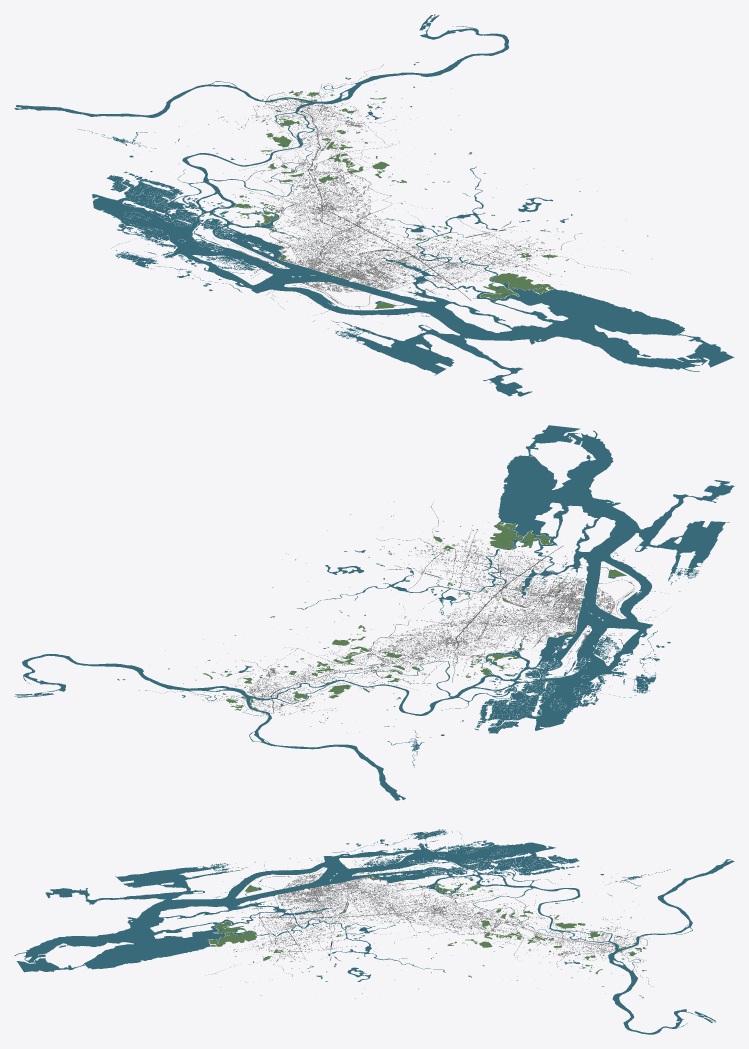
The model's file is kochi-city.glb.
3 views of the same model, one above another, from view 1: azimuth 30°, elevation 25°; view 2: azimuth 150°, elevation 25°; view 3: azimuth 270°, elevation 25° (orthographic). The views are drawn at different scales.
Visible parts, largest first — view 1: Water, Buildings, Roads, Greens; view 2: Water, Buildings, Roads, Greens; view 3: Water, Buildings, Roads, Greens.
Boxes of the visible parts, bbox=[...] form: Water: bbox=[14, 14, 734, 396]; Buildings: bbox=[254, 93, 552, 292]; Roads: bbox=[214, 64, 630, 306]; Greens: bbox=[218, 90, 559, 308]; Water: bbox=[14, 425, 734, 800]; Buildings: bbox=[231, 536, 614, 716]; Roads: bbox=[139, 502, 634, 716]; Greens: bbox=[203, 522, 631, 723]; Water: bbox=[14, 829, 734, 1034]; Buildings: bbox=[249, 872, 643, 961]; Roads: bbox=[211, 861, 649, 984]; Greens: bbox=[207, 876, 646, 974].
Size of the model in its own units: 26991 by 129 by 40018.
Materials: 8 (5 with a texture image).
